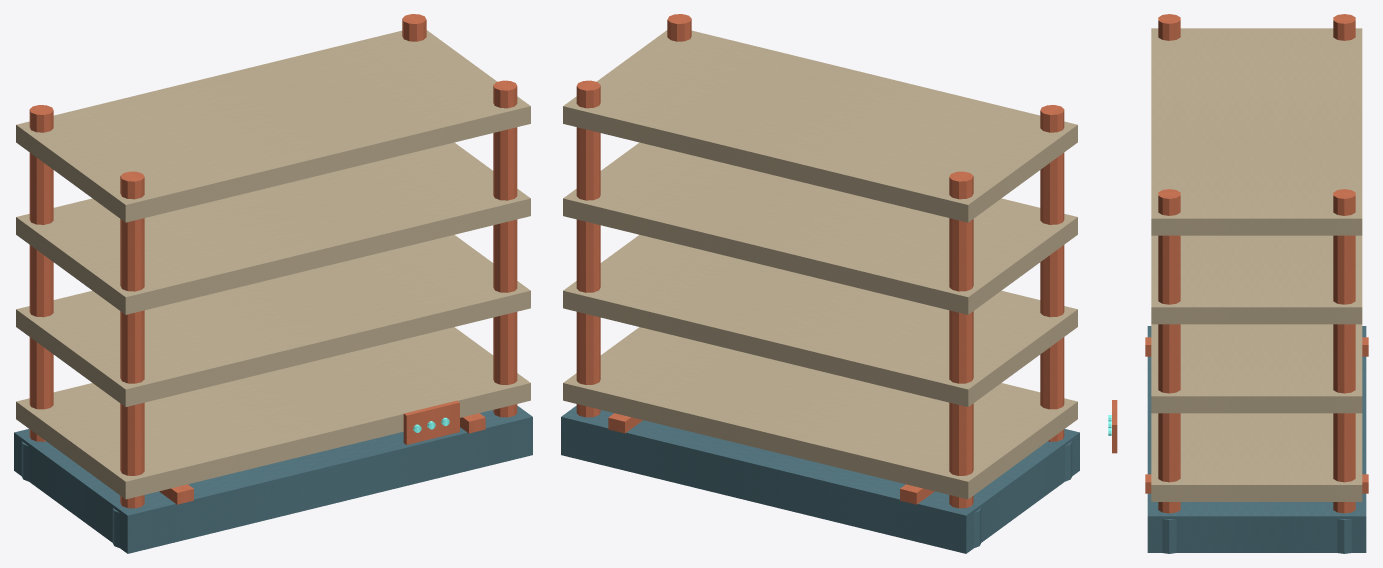
File: atlas100-s048-a06.glb
The picture shows the model from 3 angles, left to right: view 1: azimuth 30°, elevation 25°; view 2: azimuth 150°, elevation 25°; view 3: azimuth 270°, elevation 25°; orthographic projection. The views are drawn at different scales.
Parts seen in each view (by area): view 1: atlas100-s048-a06:part-014, atlas100-s048-a06:part-012, atlas100-s048-a06:part-013, atlas100-s048-a06:part-011, atlas100-s048-a06:part-000, atlas100-s048-a06:part-005, atlas100-s048-a06:part-009, atlas100-s048-a06:part-003, atlas100-s048-a06:part-015, atlas100-s048-a06:part-007; view 2: atlas100-s048-a06:part-014, atlas100-s048-a06:part-012, atlas100-s048-a06:part-011, atlas100-s048-a06:part-013, atlas100-s048-a06:part-000, atlas100-s048-a06:part-003, atlas100-s048-a06:part-007, atlas100-s048-a06:part-005, atlas100-s048-a06:part-009; view 3: atlas100-s048-a06:part-014, atlas100-s048-a06:part-012, atlas100-s048-a06:part-013, atlas100-s048-a06:part-011, atlas100-s048-a06:part-000, atlas100-s048-a06:part-007, atlas100-s048-a06:part-009, atlas100-s048-a06:part-003, atlas100-s048-a06:part-005, atlas100-s048-a06:part-008, atlas100-s048-a06:part-010.
Boxes of the visible parts, x1,y1,x2,y2 form: atlas100-s048-a06:part-014: (16,30,530,222); atlas100-s048-a06:part-012: (16,235,530,406); atlas100-s048-a06:part-013: (16,142,530,314); atlas100-s048-a06:part-011: (16,327,530,499); atlas100-s048-a06:part-000: (14,405,532,553); atlas100-s048-a06:part-005: (120,171,144,508); atlas100-s048-a06:part-009: (493,80,517,417); atlas100-s048-a06:part-003: (29,105,53,441); atlas100-s048-a06:part-015: (403,400,459,444); atlas100-s048-a06:part-007: (402,14,426,41); atlas100-s048-a06:part-014: (563,30,1077,222); atlas100-s048-a06:part-012: (563,235,1077,406); atlas100-s048-a06:part-011: (563,327,1077,499); atlas100-s048-a06:part-013: (563,142,1077,314); atlas100-s048-a06:part-000: (561,405,1079,553); atlas100-s048-a06:part-003: (949,171,973,508); atlas100-s048-a06:part-007: (576,80,600,417); atlas100-s048-a06:part-005: (1040,105,1064,441); atlas100-s048-a06:part-009: (667,14,691,41); atlas100-s048-a06:part-014: (1151,28,1362,235); atlas100-s048-a06:part-012: (1151,324,1362,413); atlas100-s048-a06:part-013: (1151,235,1362,324); atlas100-s048-a06:part-011: (1151,413,1362,501); atlas100-s048-a06:part-000: (1147,326,1366,552); atlas100-s048-a06:part-007: (1333,189,1355,513); atlas100-s048-a06:part-009: (1158,189,1180,513); atlas100-s048-a06:part-003: (1333,14,1355,40); atlas100-s048-a06:part-005: (1158,14,1180,40); atlas100-s048-a06:part-008: (1337,519,1351,553); atlas100-s048-a06:part-010: (1162,519,1176,553).
Size of the model in its own units: 2.91 by 2.48 by 1.66.
4 materials, 4 textured.
